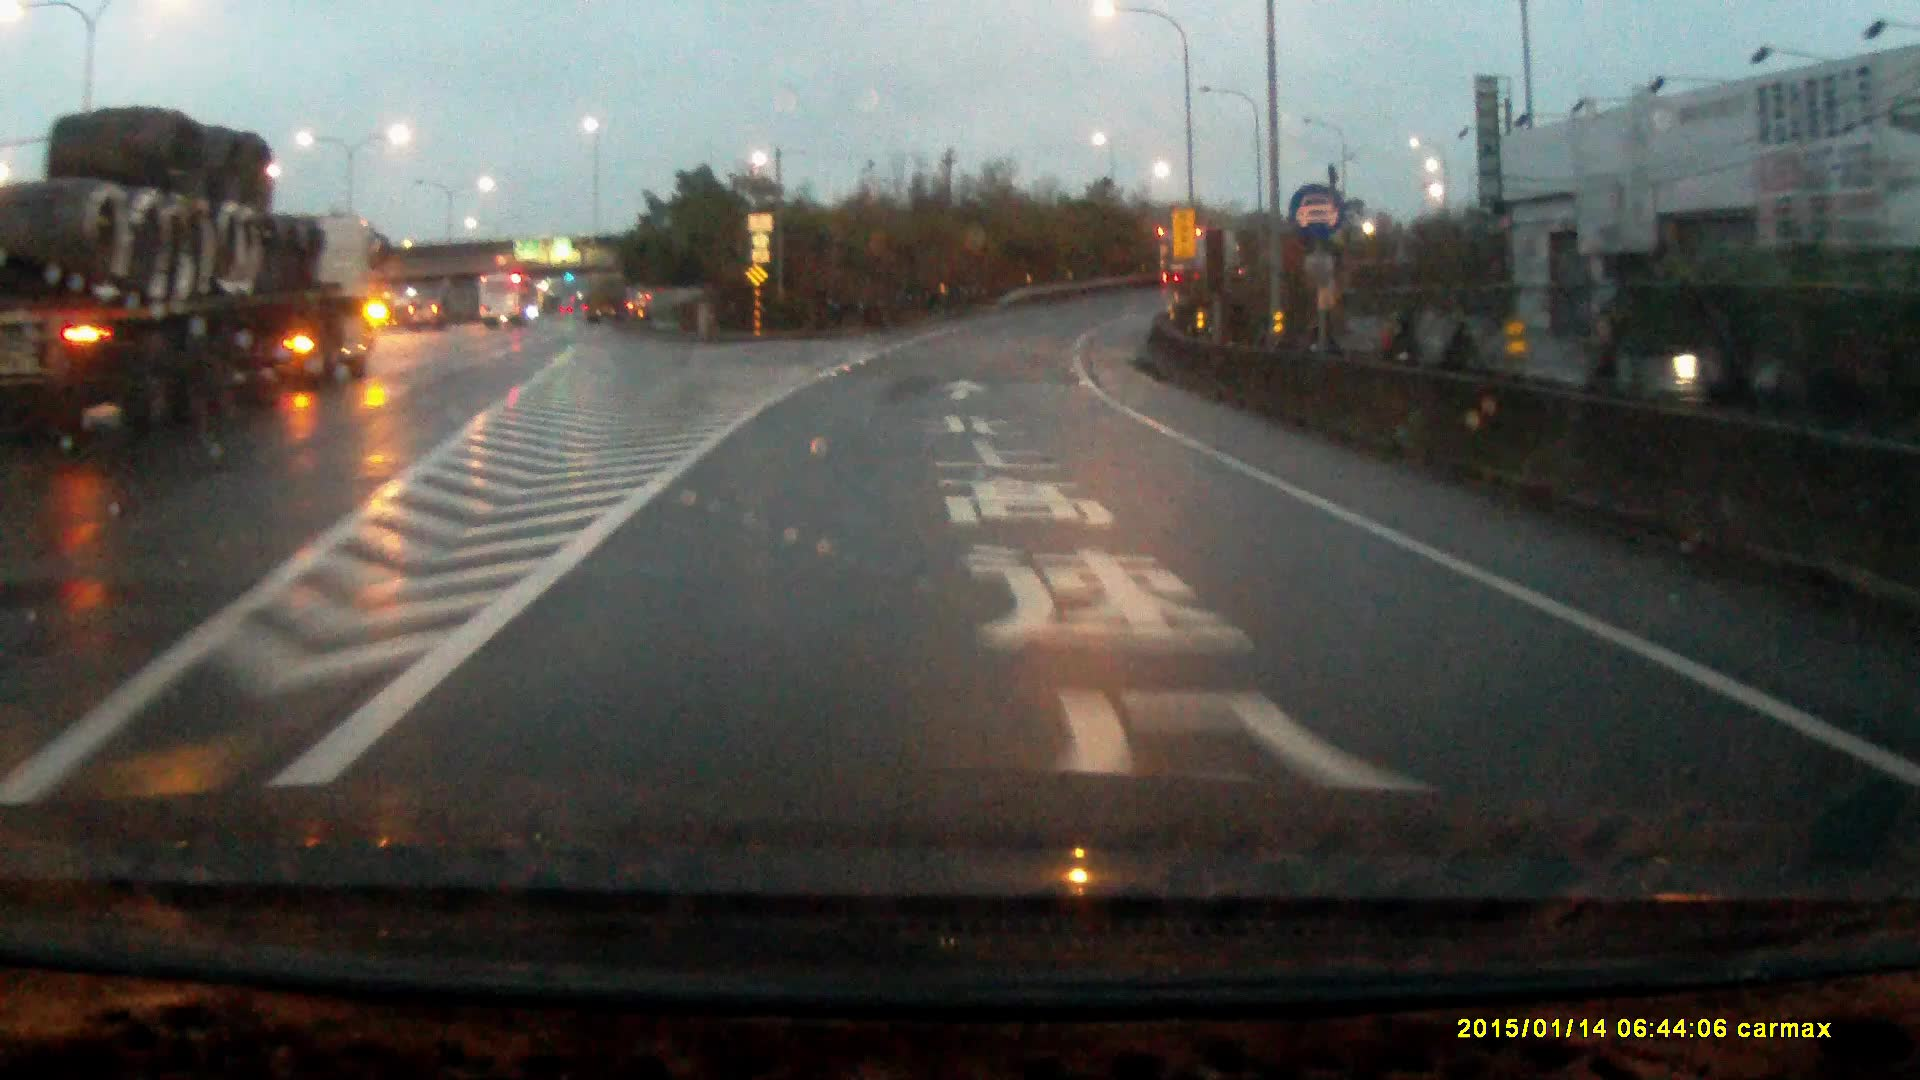vehicle: (1, 112, 378, 439), (1155, 225, 1247, 289), (477, 276, 539, 331), (407, 297, 447, 334)
